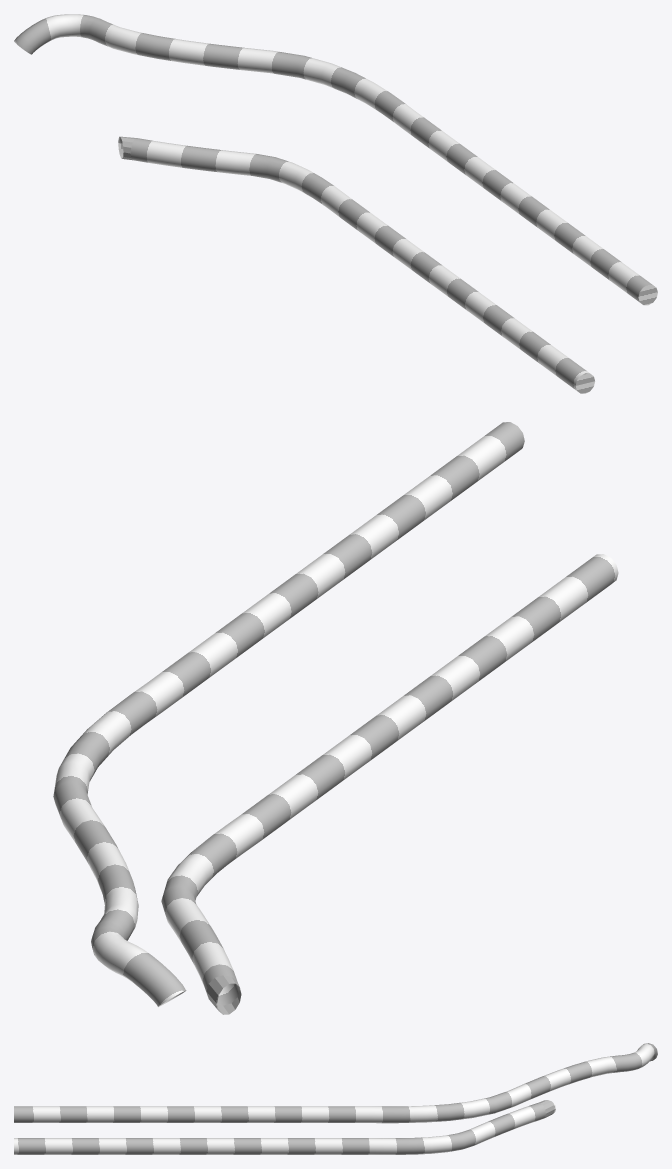
File: Rail_Left_Long_Start.fbx
3 renders of one model, top to bottom at view 1: azimuth 30°, elevation 25°; view 2: azimuth 150°, elevation 25°; view 3: azimuth 270°, elevation 25°, orthographic. The views are drawn at different scales.
Visible parts, largest first — view 1: Rail_Left_Long_Start; view 2: Rail_Left_Long_Start; view 3: Rail_Left_Long_Start.
Boxes of the visible parts, <box> form: Rail_Left_Long_Start: <box>14,14,657,393</box>; Rail_Left_Long_Start: <box>53,422,618,1014</box>; Rail_Left_Long_Start: <box>14,1043,657,1154</box>.
Size of the model in its own units: 87.76 by 303 by 36.23.
Materials: 1 (1 with a texture image).
